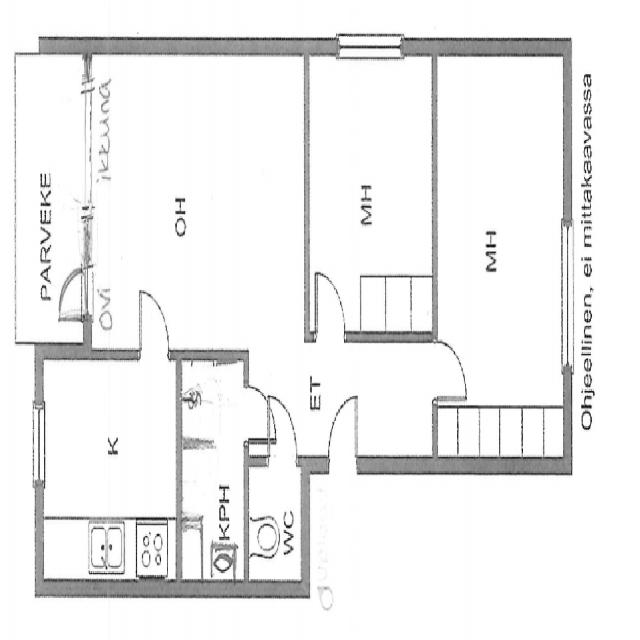door: (246, 440, 305, 589), (322, 387, 366, 474), (240, 379, 290, 454), (132, 282, 176, 363), (307, 262, 351, 342), (430, 329, 470, 409), (262, 384, 302, 462), (52, 261, 95, 324)
window: (556, 205, 581, 382), (327, 23, 409, 73), (77, 72, 98, 214), (28, 390, 48, 495)
zone: (87, 52, 310, 353), (434, 50, 569, 462), (307, 48, 437, 340), (39, 349, 180, 588), (179, 352, 249, 588), (246, 448, 305, 592)
